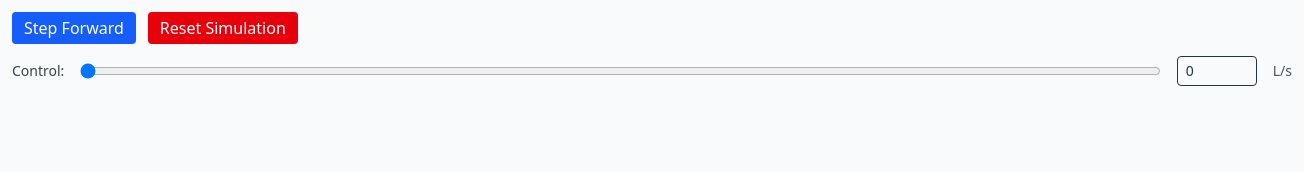
SimulationControls › displays error message when step fails
Click the button "Step Forward" at (74, 28), box [12, 12, 136, 44]
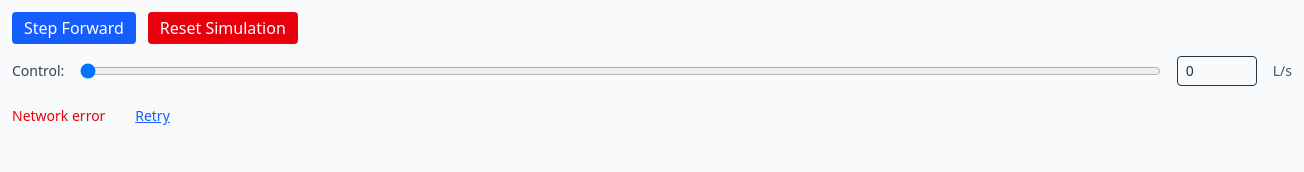
Check: the text "Network error Retry" is shown, box [12, 98, 188, 135]
Check: the button "Retry" is shown, box [117, 98, 188, 135]
